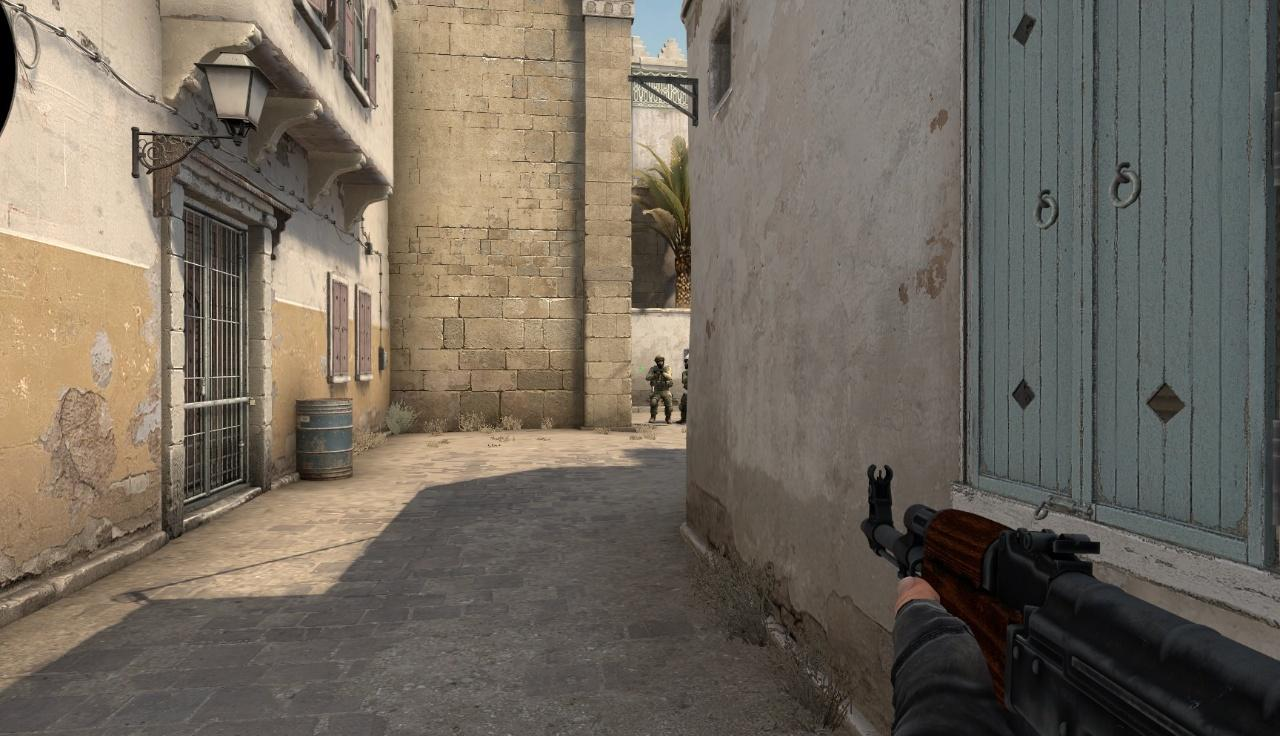ct: (646, 355, 673, 423)
cthead: (655, 356, 664, 367)
rifle: (863, 463, 1280, 736)
